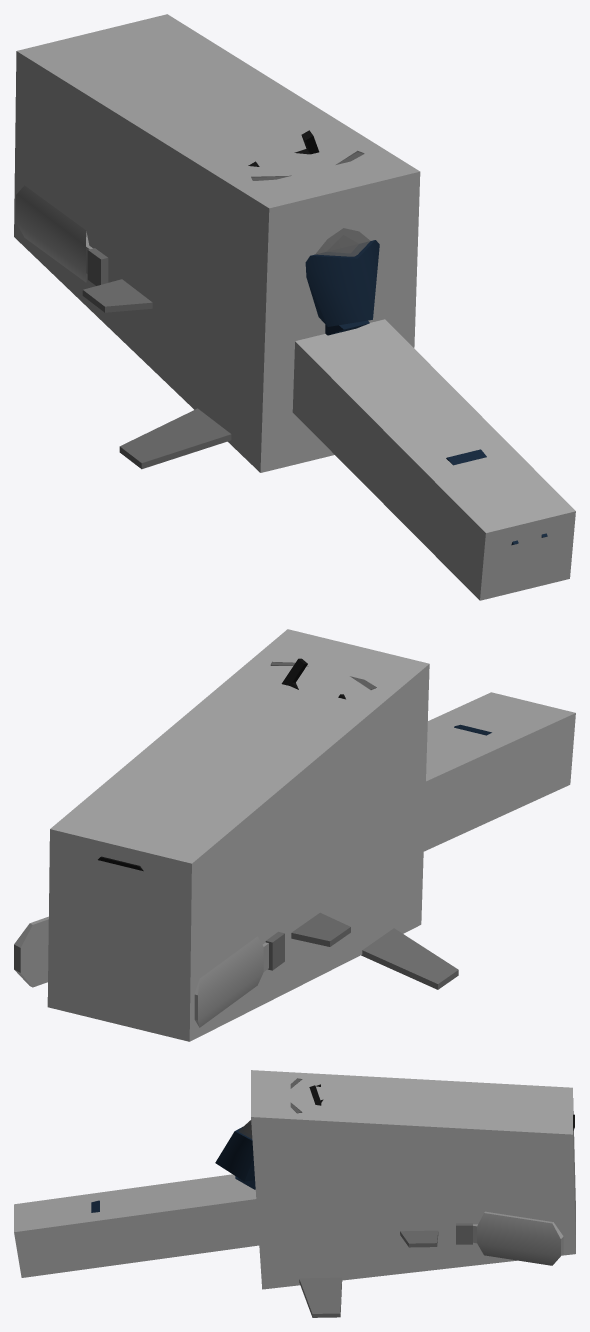
The model's file is Steer_right.fbx.
The picture shows the model from 3 angles, top to bottom: view 1: azimuth 30°, elevation 25°; view 2: azimuth 150°, elevation 25°; view 3: azimuth 270°, elevation 25°; orthographic projection. The views are drawn at different scales.
Parts seen in each view (by area): view 1: CyberBike_Geo, Main_geo, Wings_geo, Flap_R_geo, Glass_geo; view 2: CyberBike_Geo, Wings_geo, Flap_R_geo, Flap_L_geo, Engine_geo; view 3: CyberBike_Geo, Flap_L_geo, Wings_geo, Main_geo, Engine_geo.
Boxes of the visible parts, x1,y1,x2,y2 form: CyberBike_Geo: (14, 14, 575, 600); Main_geo: (305, 240, 547, 545); Wings_geo: (82, 279, 231, 469); Flap_R_geo: (16, 185, 92, 282); Glass_geo: (251, 150, 370, 256); CyberBike_Geo: (47, 629, 575, 1041); Wings_geo: (291, 912, 458, 989); Flap_R_geo: (194, 936, 268, 1027); Flap_L_geo: (14, 916, 48, 987); Engine_geo: (265, 931, 284, 970); CyberBike_Geo: (14, 1070, 575, 1289); Flap_L_geo: (473, 1211, 563, 1265); Wings_geo: (299, 1230, 438, 1317); Main_geo: (91, 1126, 255, 1212); Engine_geo: (456, 1223, 472, 1244).
Size of the model in its own units: 6.72 by 6.16 by 16.6.
